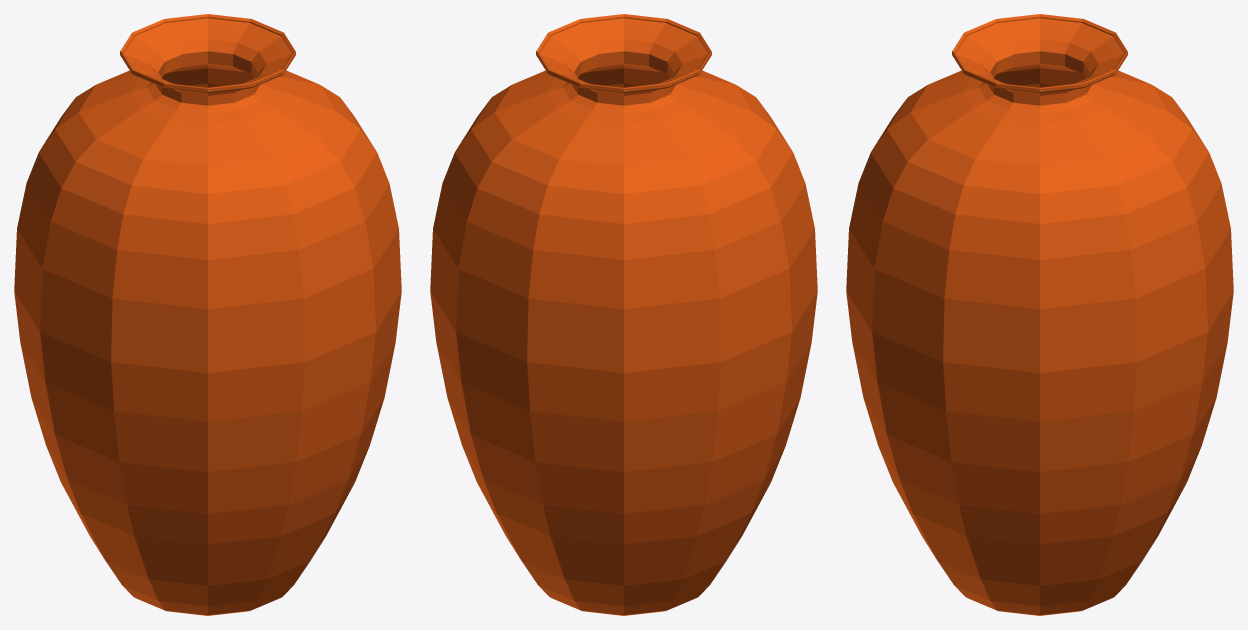
Rendered from CtrlAlt_Vase.fbx.
The picture shows the model from 3 angles, left to right: view 1: azimuth 30°, elevation 25°; view 2: azimuth 150°, elevation 25°; view 3: azimuth 270°, elevation 25°; orthographic projection.
Visible parts, largest first — view 1: Cube; view 2: Cube; view 3: Cube.
Boxes of the visible parts, bbox=[...] form: Cube: bbox=[14, 14, 401, 615]; Cube: bbox=[430, 14, 817, 615]; Cube: bbox=[846, 14, 1233, 615].
Bounding box in the file's own units: 226 × 348 × 226.
